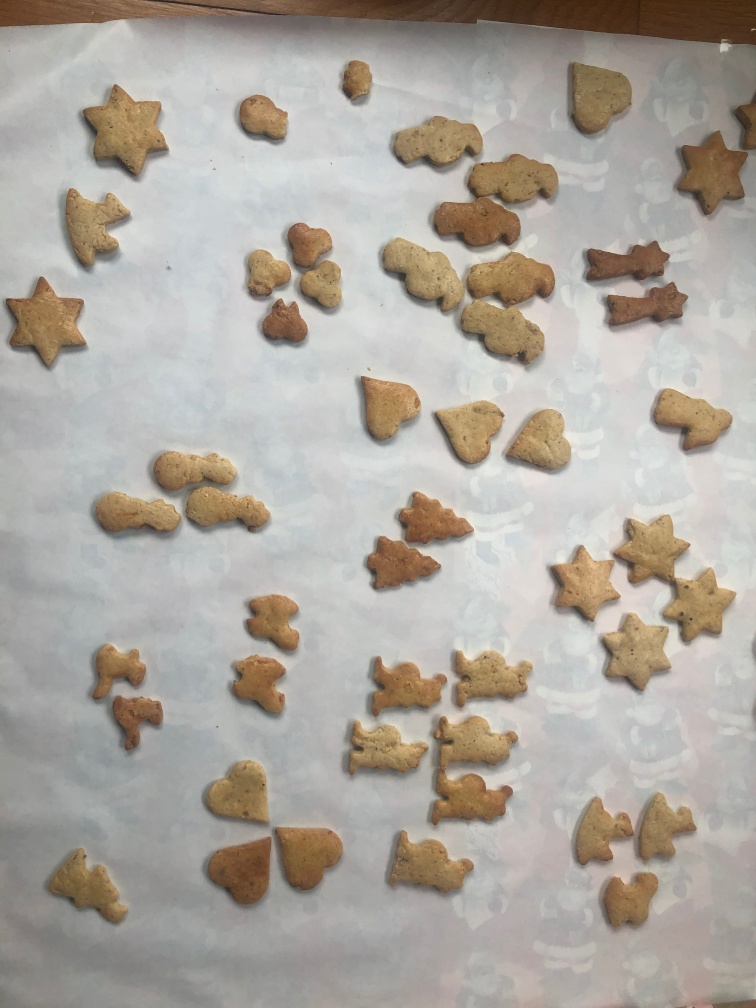angel: (648, 384, 738, 457)
christmas tree: (360, 532, 443, 599), (390, 488, 479, 549)
flake: (255, 297, 319, 350), (293, 256, 348, 315), (240, 247, 294, 305), (282, 217, 332, 275)
heart: (199, 753, 282, 835), (197, 832, 276, 914), (565, 54, 637, 143), (427, 393, 506, 471), (504, 401, 581, 478), (352, 370, 413, 461), (272, 821, 345, 893)
king mage: (37, 843, 133, 932)
lamb: (56, 182, 137, 279), (568, 795, 636, 874), (634, 793, 699, 873), (227, 647, 294, 724), (241, 589, 309, 661), (600, 866, 664, 934)
santa claus: (376, 824, 475, 906), (376, 229, 464, 317), (453, 293, 552, 371), (354, 652, 462, 722), (444, 639, 537, 717), (338, 713, 425, 789), (425, 761, 514, 833), (463, 150, 571, 209), (385, 112, 487, 173), (464, 245, 557, 310), (430, 192, 525, 255), (426, 709, 521, 772)
shooting star: (577, 233, 670, 290), (602, 279, 690, 339)
snowball: (181, 486, 276, 541), (89, 489, 187, 540), (149, 445, 241, 496), (340, 55, 372, 105)
squirrel: (83, 639, 153, 702), (103, 693, 165, 756)
star: (77, 78, 180, 184), (3, 273, 97, 365), (544, 538, 626, 628), (593, 612, 676, 696), (671, 129, 747, 219), (658, 568, 739, 646), (615, 512, 691, 593), (731, 94, 756, 154)
